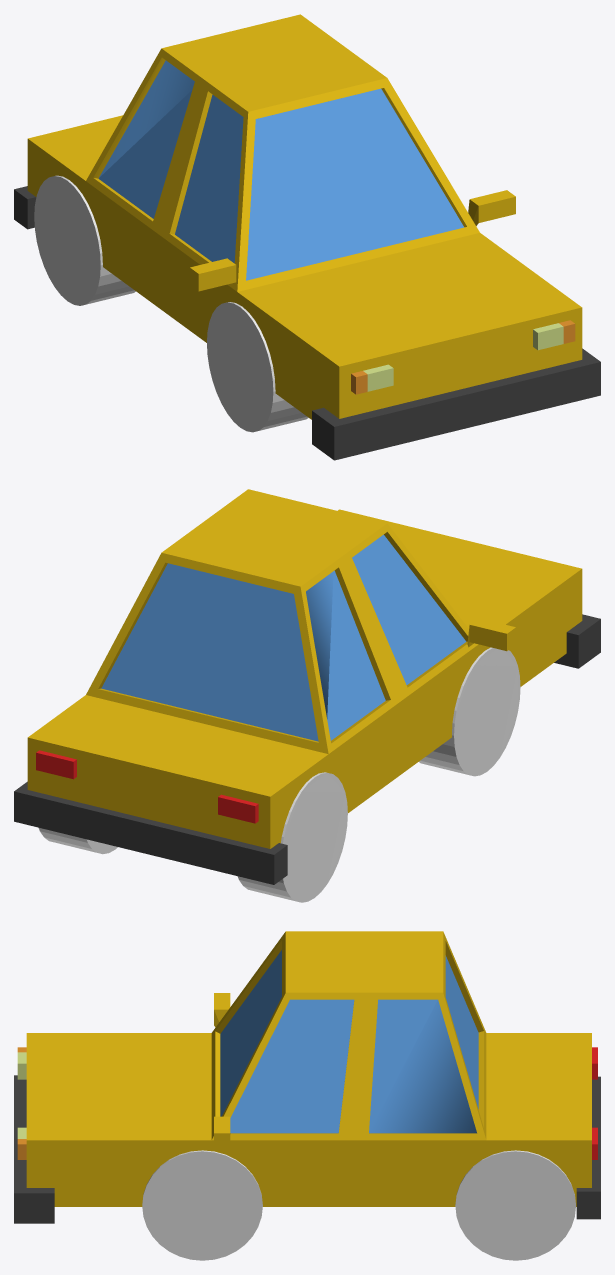
Rendered from car_yellow.glb.
3 renders of one model, top to bottom at view 1: azimuth 30°, elevation 25°; view 2: azimuth 150°, elevation 25°; view 3: azimuth 270°, elevation 25°, orthographic. The views are drawn at different scales.
Parts seen in each view (by area): view 1: car, bk mask, fr mask, mirriors, lights; view 2: car, bk mask, fr mask, bk lights, mirriors; view 3: car, bk mask, fr mask, mirriors, lights.
Part boxes in pixels (bbox=[...]): car: bbox=[14, 14, 600, 460]; bk mask: bbox=[34, 175, 135, 305]; fr mask: bbox=[207, 302, 308, 432]; mirriors: bbox=[190, 190, 515, 291]; lights: bbox=[351, 320, 575, 394]; car: bbox=[14, 489, 600, 884]; bk mask: bbox=[38, 772, 347, 902]; fr mask: bbox=[419, 647, 520, 776]; bk lights: bbox=[36, 750, 258, 823]; mirriors: bbox=[467, 618, 515, 651]; car: bbox=[14, 931, 600, 1223]; bk mask: bbox=[455, 1150, 575, 1260]; fr mask: bbox=[142, 1150, 262, 1260]; mirriors: bbox=[214, 993, 230, 1148]; lights: bbox=[17, 1047, 26, 1159].
Size of the model in its own units: 4.34 by 3.52 by 7.67.
